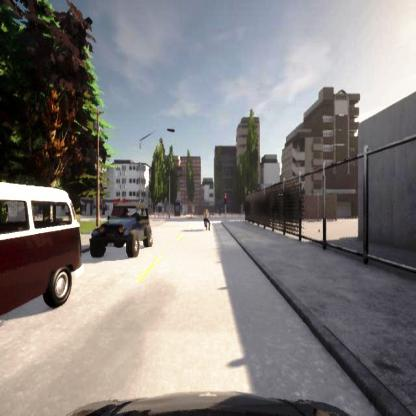bike: (202, 209, 211, 230)
vehicle: (89, 196, 153, 258)
